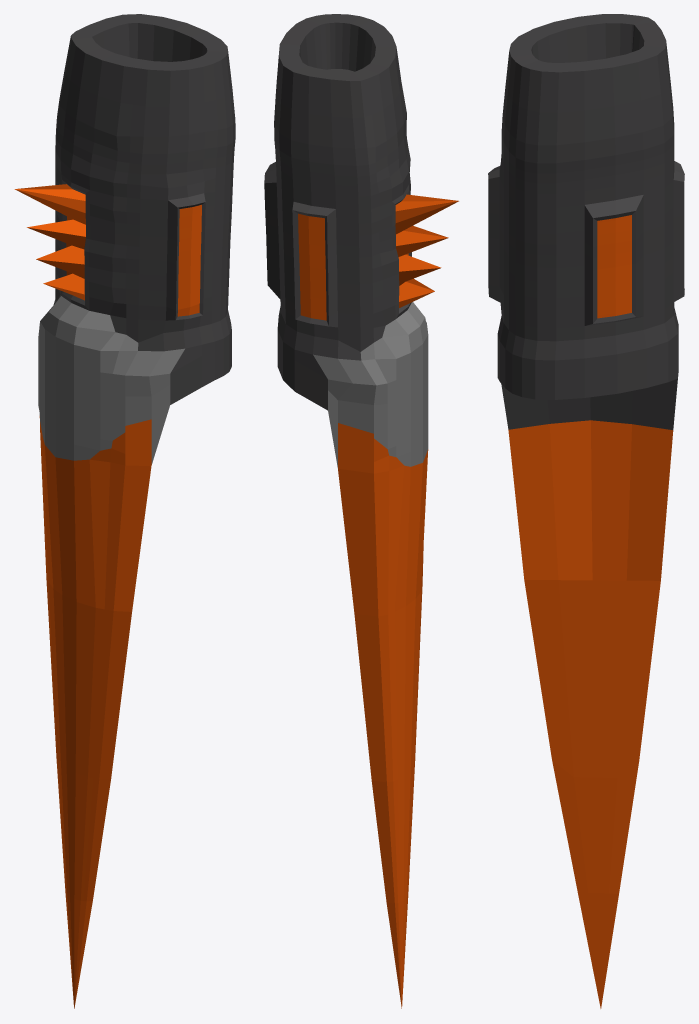
File: ArmaSword.fbx
3 renders of one model, left to right at view 1: azimuth 30°, elevation 25°; view 2: azimuth 150°, elevation 25°; view 3: azimuth 270°, elevation 25°, orthographic. The views are drawn at different scales.
Visible parts, largest first — view 1: Weapon3.sword; view 2: Weapon3.sword; view 3: Weapon3.sword.
Part boxes in pixels (box(x1,y1,x2,y2)): Weapon3.sword: box(14, 14, 235, 1008); Weapon3.sword: box(264, 14, 458, 1008); Weapon3.sword: box(488, 14, 684, 1008).
Bounding box in the file's own units: 51.92 × 241 × 42.77.
